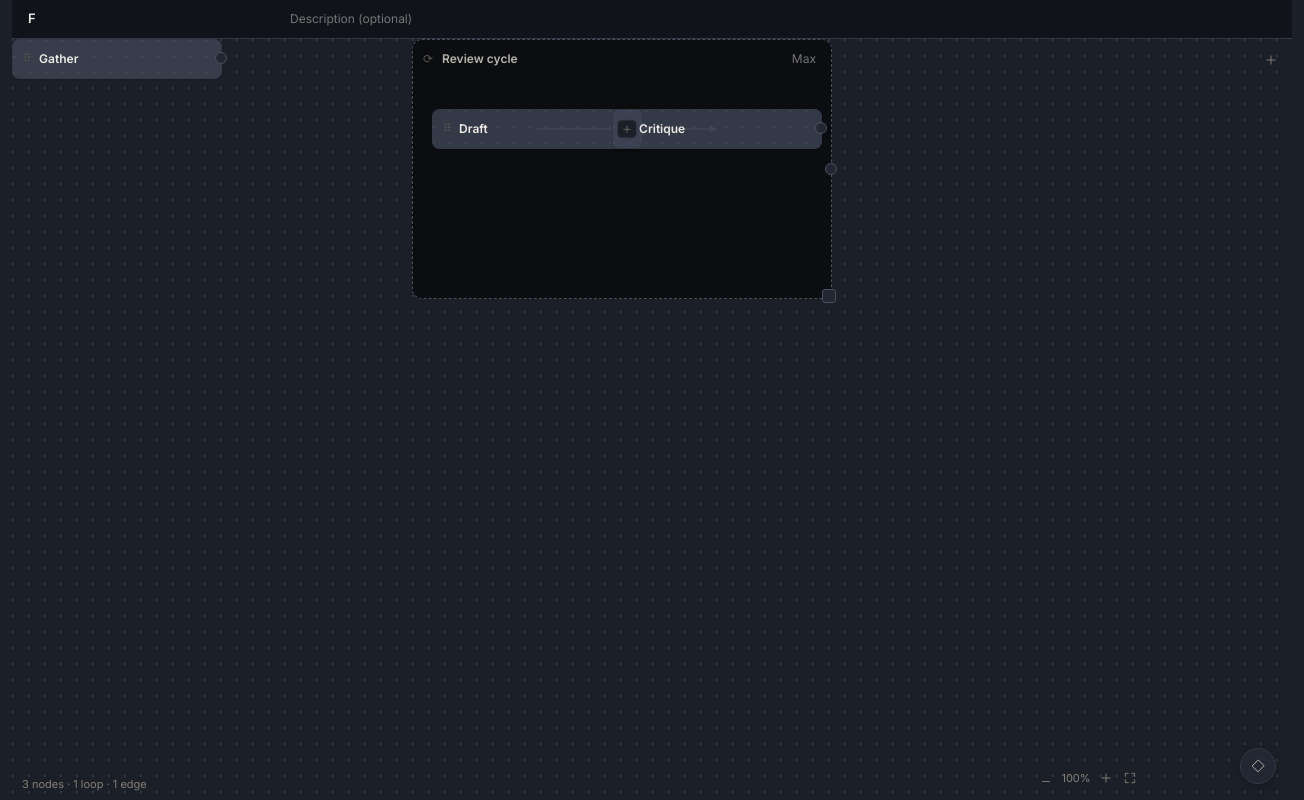
it: loops on the canvas (FLO-FR-42, FLO-FR-40 / FLO-FR-39 / FLO-FR-45) › refuses a connection that crosses a loop boundary
Press the mouse on the button named "Connect from Gather" at (221, 58), box [215,52,227,64]
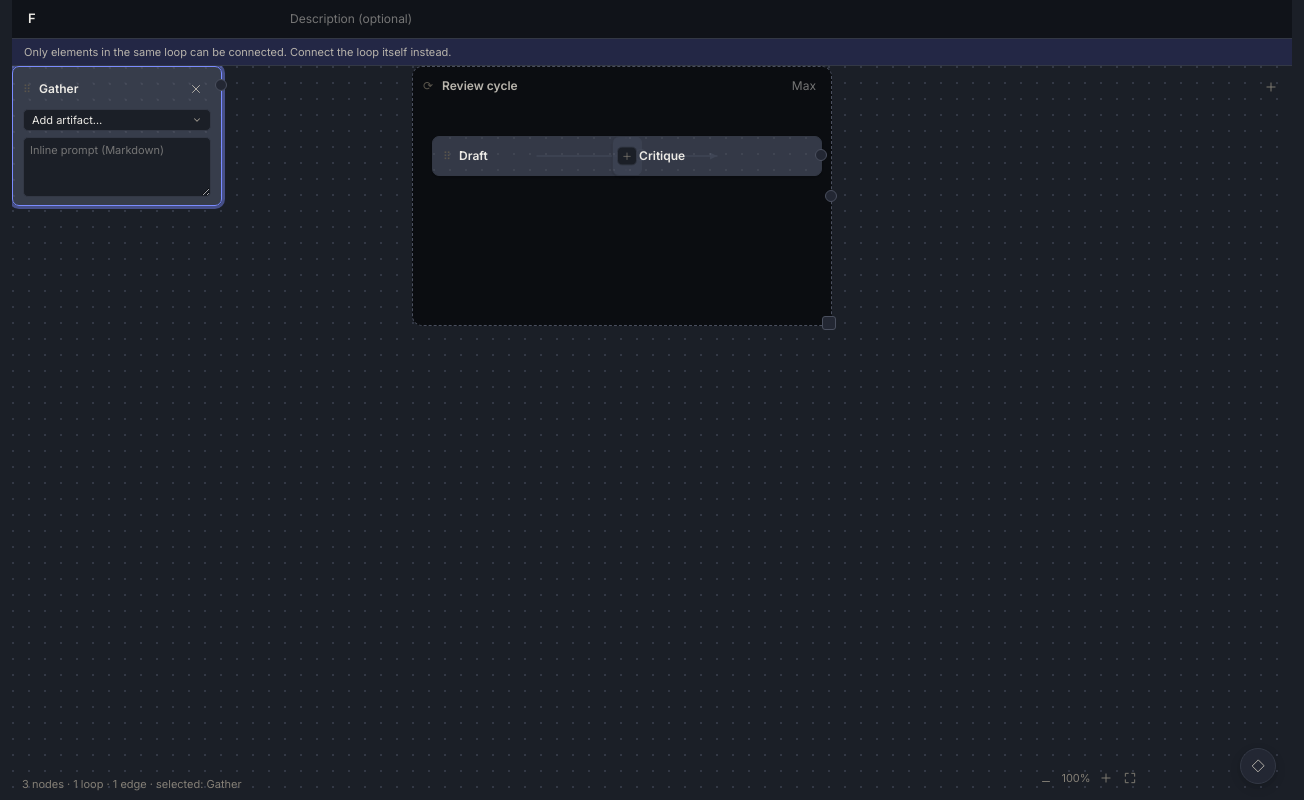
Now the message shows "Only elements in the same loop", box [24,44,452,58]
